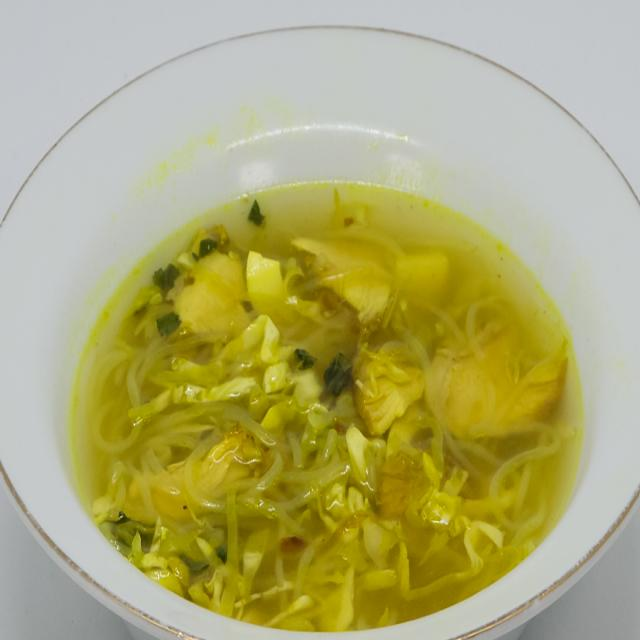Soto-Lamongan: (56, 133, 594, 636)
